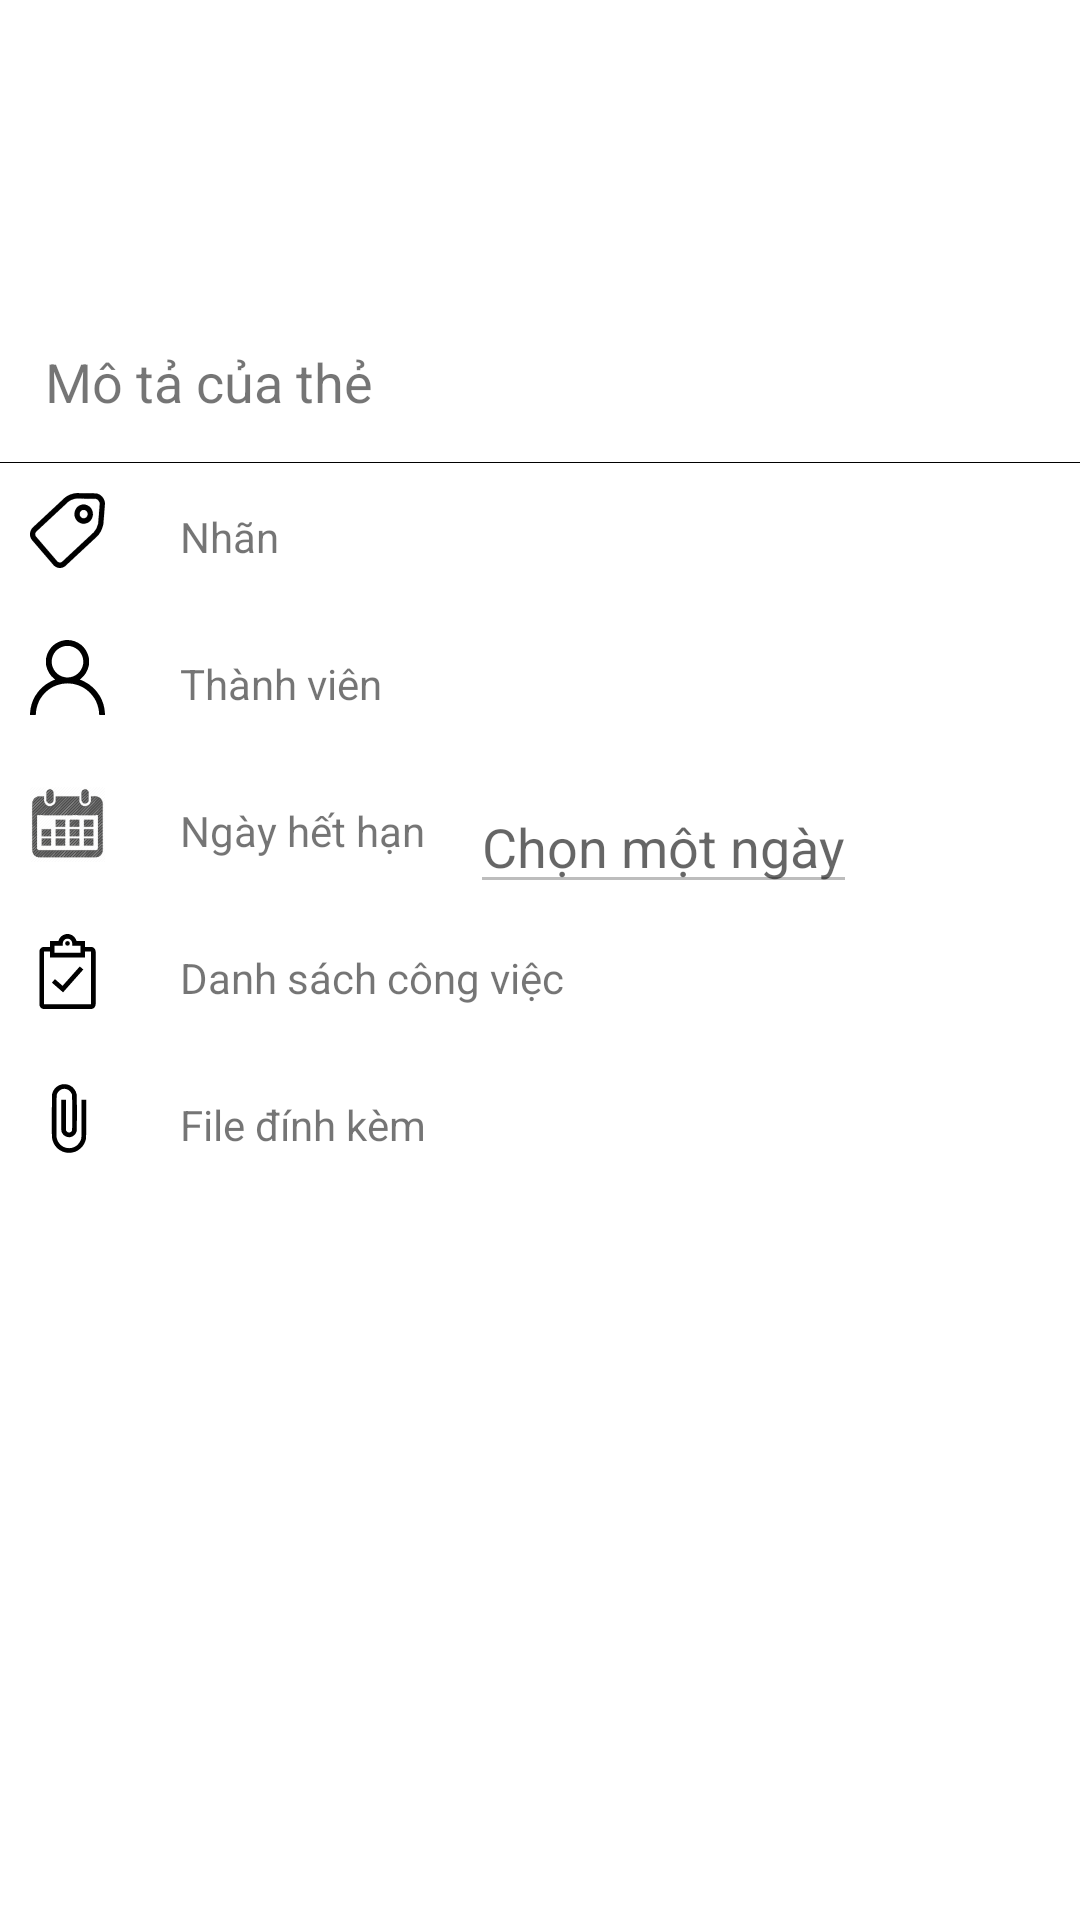

Where to tap for icons on this 1080 × 1920 app screen, as [x,y]:
attach file: [69,1118]
calendar: [67,823]
tag: [67,530]
task: [67,971]
user: [67,677]
